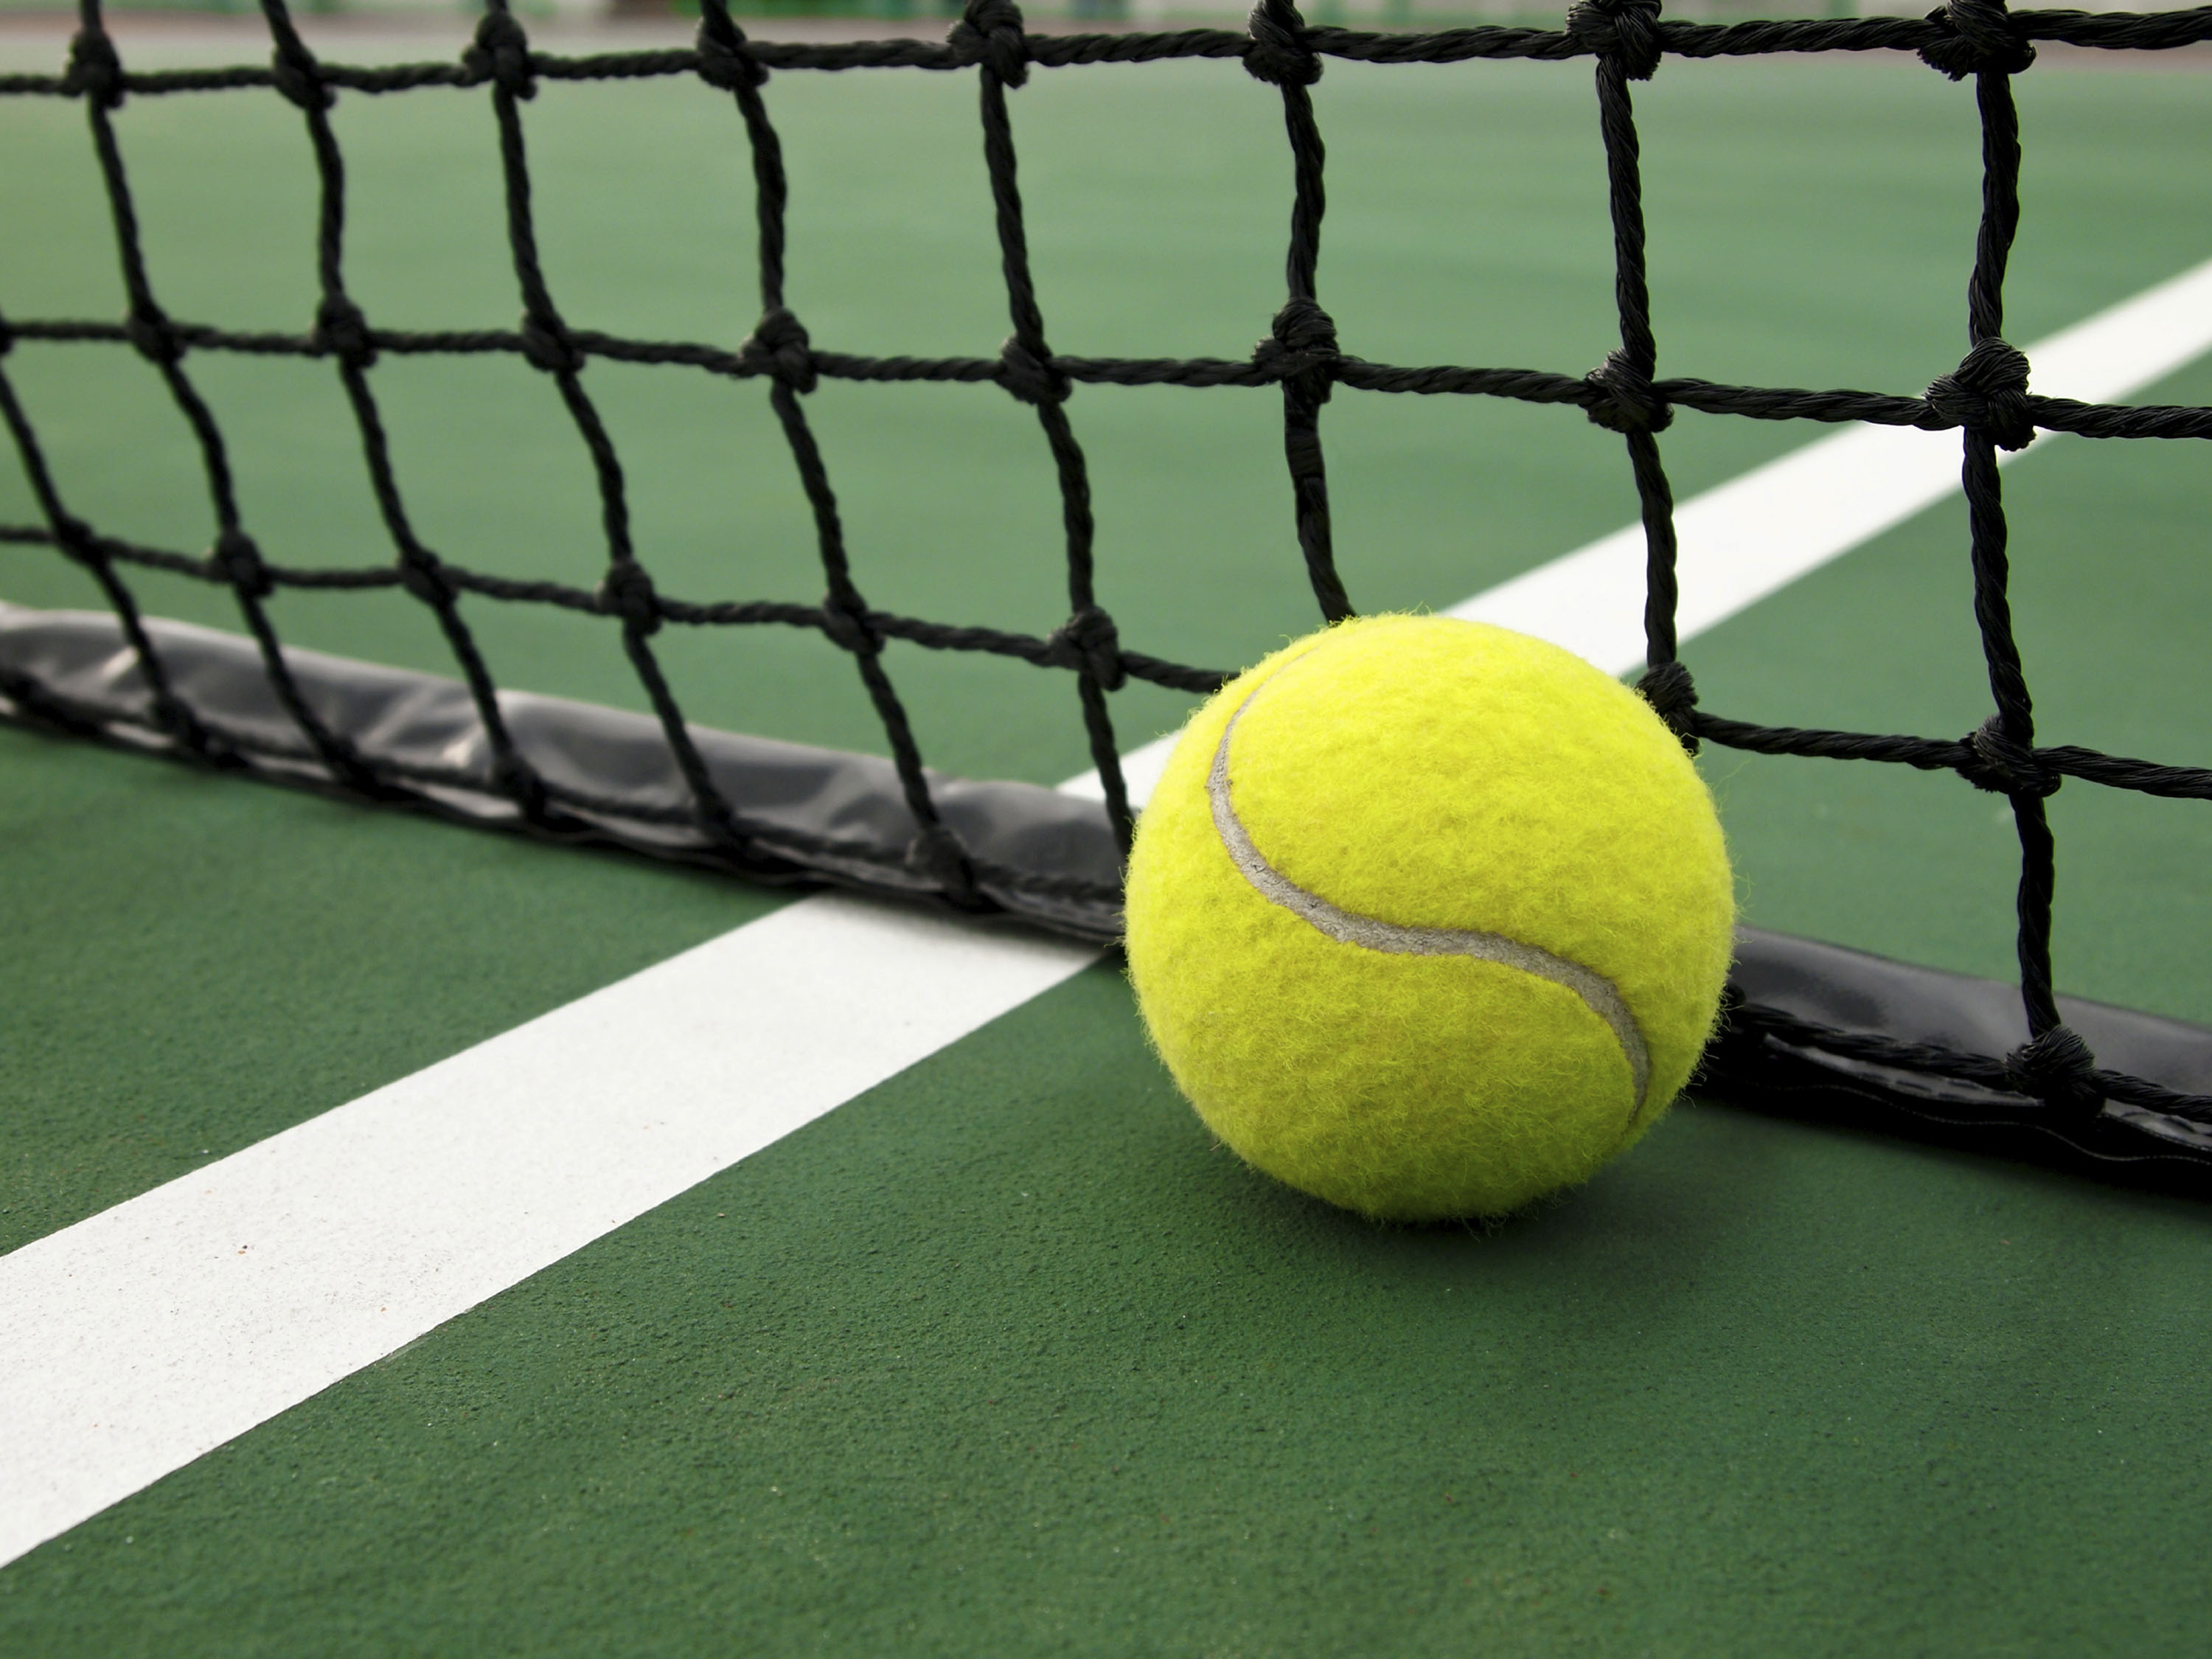tennis_ball: (1120, 612, 1747, 1243)
